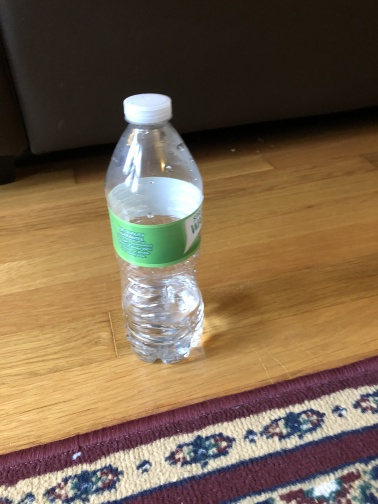bottle: (100, 90, 209, 367)
